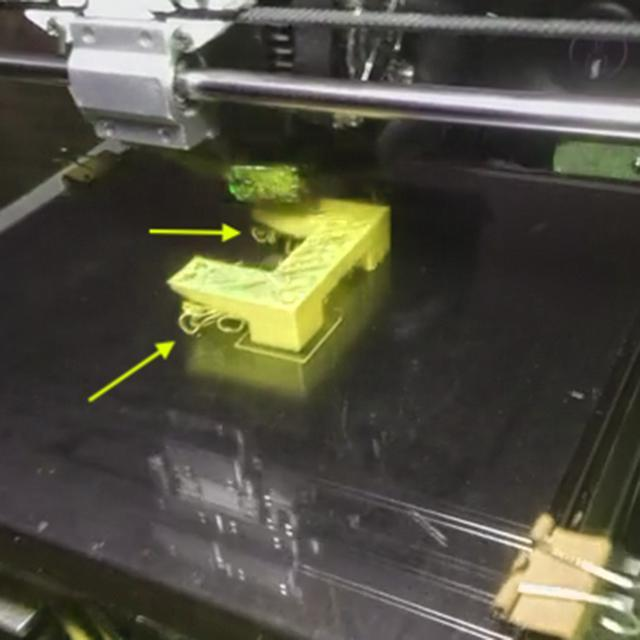Spaghetti: (176, 294, 245, 344), (250, 223, 302, 257)
